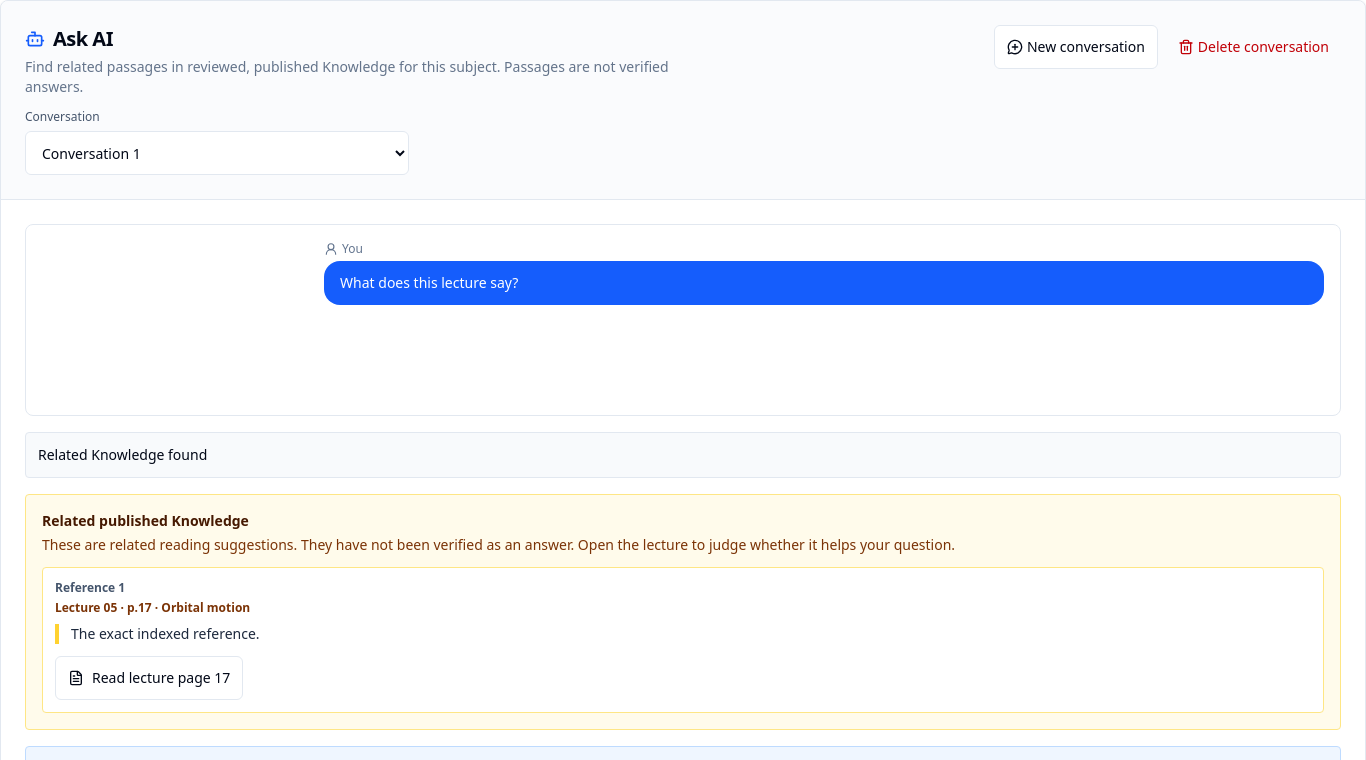
Test: closes an open page and clears its quote when revalidation withdraws the source
The width and height of the screenshot is (1366, 760).
Click the button "Read lecture page 17". click: (149, 678)
box: top-left (55, 656), bottom-right (243, 700)
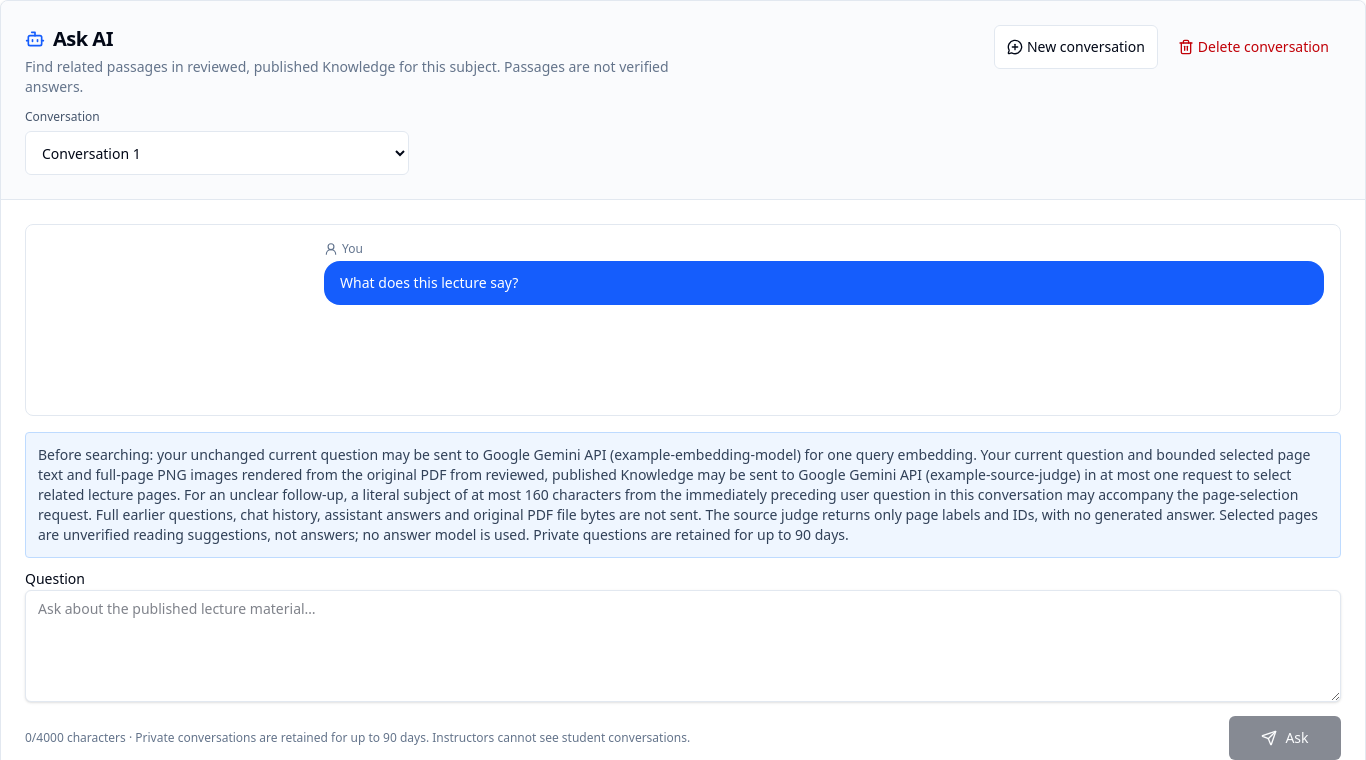
Now the text "The exact indexed reference." is gone
